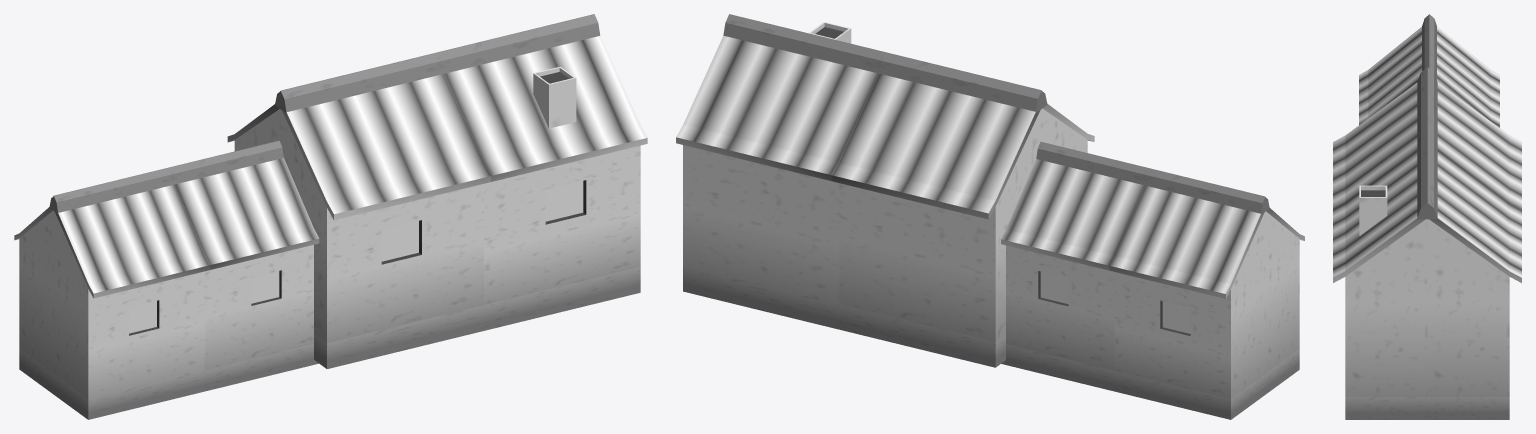
The model's file is WesternHouseF.fbx.
The picture shows the model from 3 angles, left to right: view 1: azimuth 30°, elevation 25°; view 2: azimuth 150°, elevation 25°; view 3: azimuth 270°, elevation 25°; orthographic projection. The views are drawn at different scales.
Parts seen in each view (by area): view 1: HouseF; view 2: HouseF; view 3: HouseF.
Part boxes in pixels (left/top/right/bottom): HouseF: left=14, top=14, right=647, bottom=419; HouseF: left=676, top=14, right=1304, bottom=419; HouseF: left=1333, top=14, right=1521, bottom=419.
Size of the model in its own units: 2262 by 1000 by 772.
